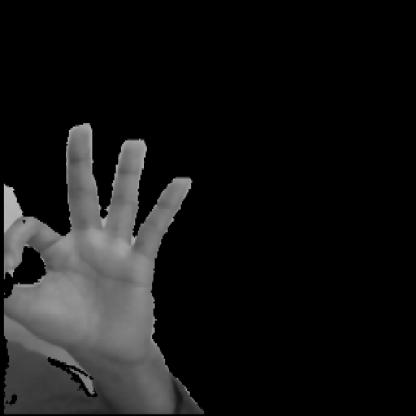ok: (1, 109, 199, 385)
